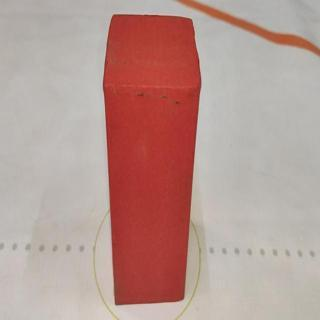redbox: (102, 13, 202, 305)
